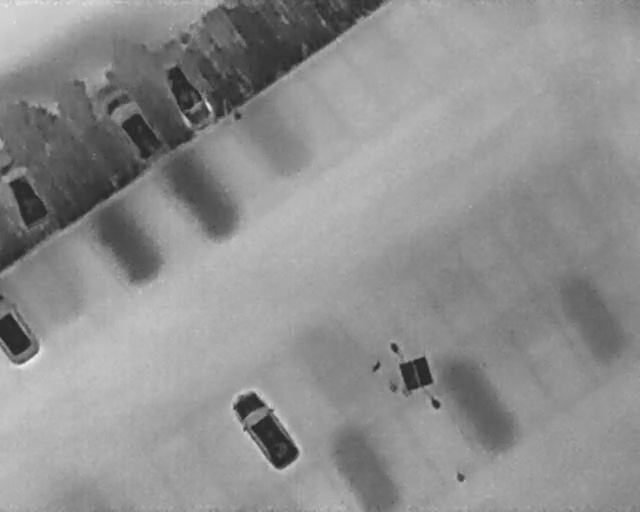Car: (220, 377, 308, 477), (95, 81, 173, 169), (154, 52, 220, 135), (0, 160, 55, 232), (0, 287, 40, 367)
